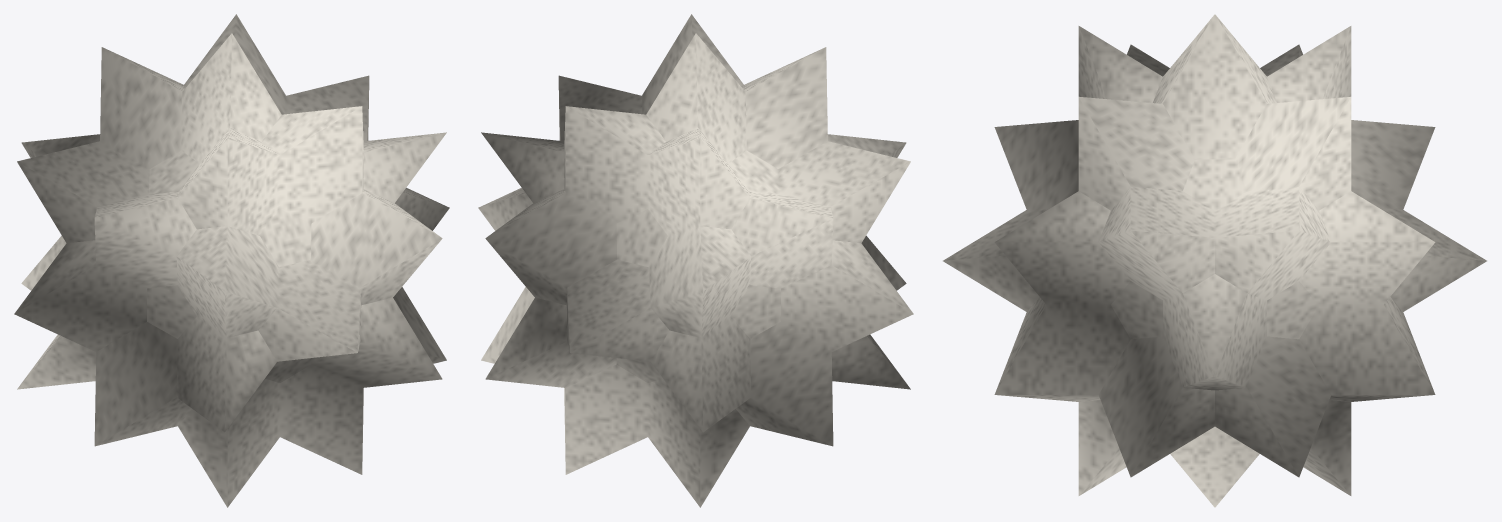
The model's file is fiber.gltf.
3 views of the same model, side by side, from view 1: azimuth 30°, elevation 25°; view 2: azimuth 150°, elevation 25°; view 3: azimuth 270°, elevation 25° (orthographic). The views are drawn at different scales.
Visible parts, largest first — view 1: Fiber; view 2: Fiber; view 3: Fiber.
Boxes of the visible parts, box(x1,y1,x2,y2) form: Fiber: box(14, 14, 449, 507); Fiber: box(478, 14, 913, 507); Fiber: box(943, 14, 1486, 507).
Bounding box in the file's own units: 0.4043 × 0.4043 × 0.4043.
Materials: 1 (1 with a texture image).
